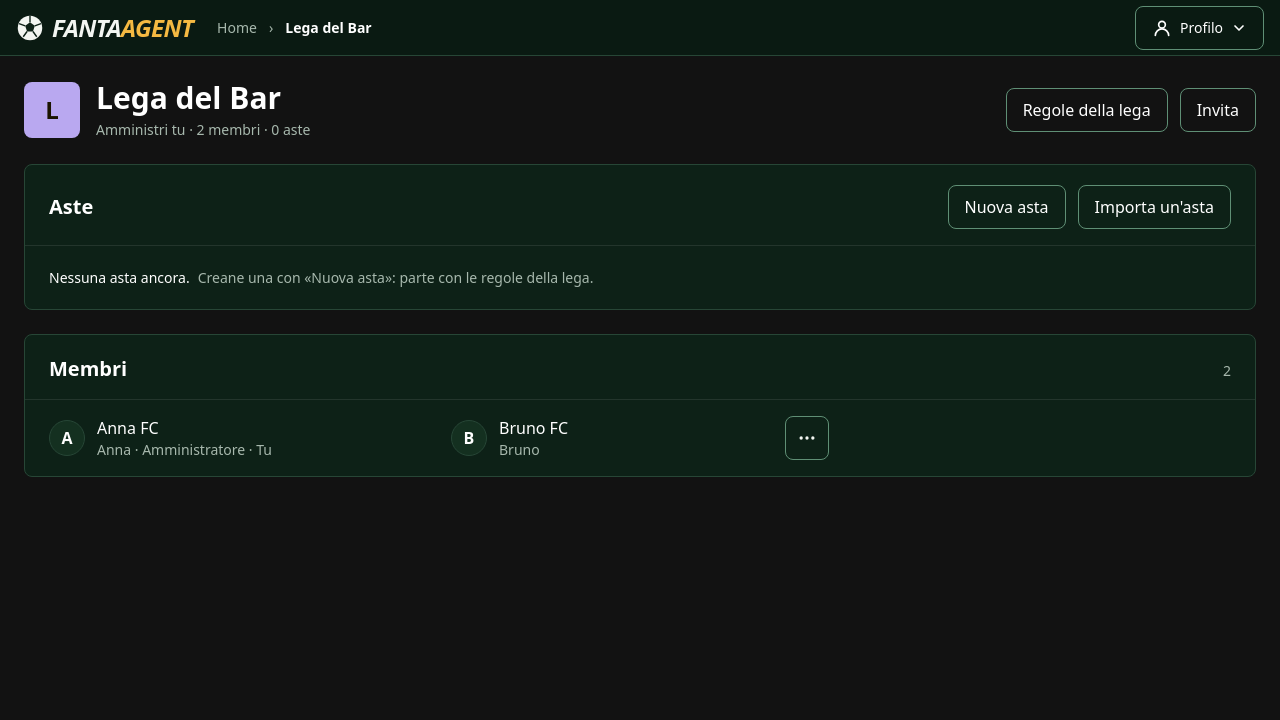
Test: LeagueRoute › la finestra degli inviti elenca i link attivi, ognuno con Ritira
What coordinates should you click on to do the following:
click the button "Invita"
I would click on:
 (1218, 110)
Its box is [1180,88,1256,132].
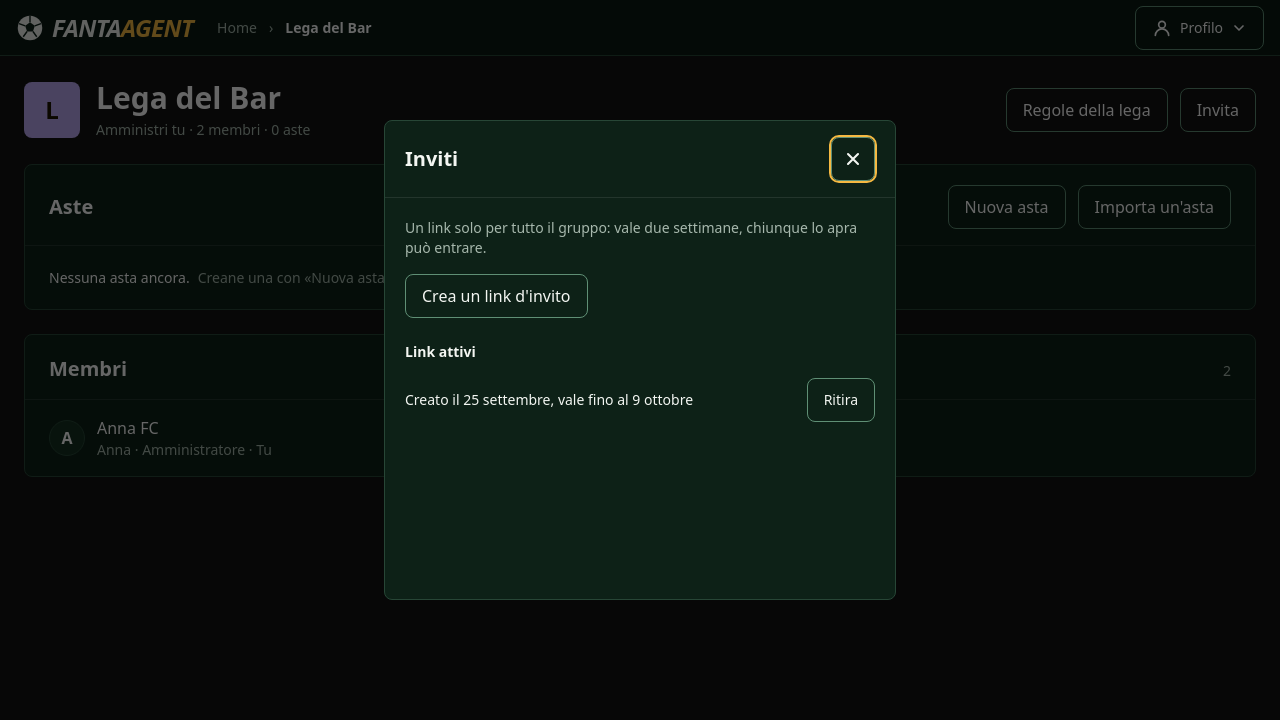
Expected: the text "Creato il 25 settembre, vale fino al 9 ottobre" is shown, [405,390,693,410]
Expected: the button with aria-label "Ritira il link creato il 25 settembre" is shown, [807,378,875,422]
